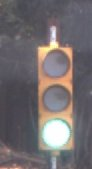Green: (34, 41, 79, 152)
